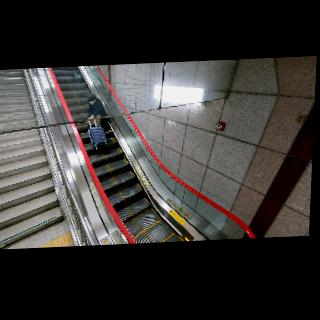anomaly: (78, 90, 115, 137)
